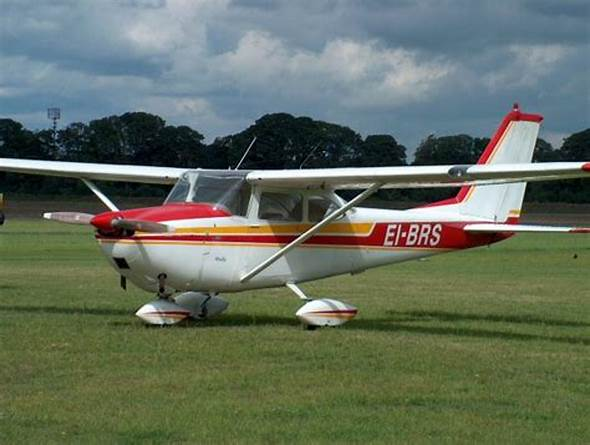Aeronef_de_loisir: (1, 99, 590, 342)
